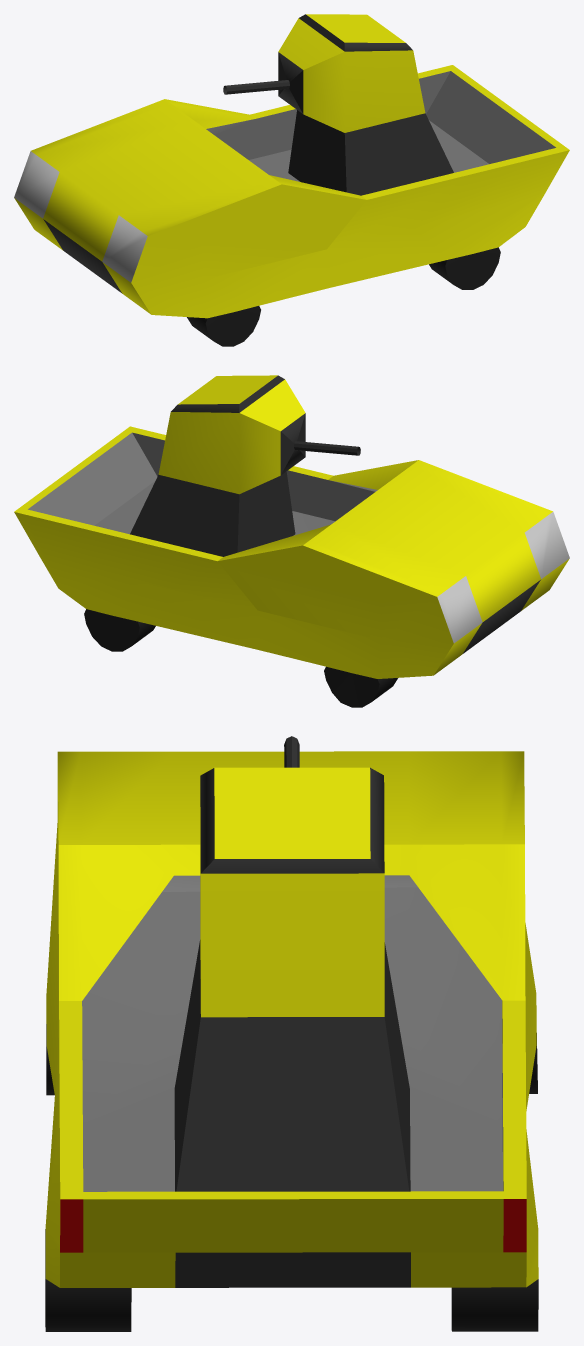
The model's file is WarLightYellow.fbx.
3 views of the same model, one above another, from view 1: azimuth 30°, elevation 25°; view 2: azimuth 150°, elevation 25°; view 3: azimuth 270°, elevation 25° (orthographic). The views are drawn at different scales.
Parts seen in each view (by area): view 1: pCylinder6; view 2: pCylinder6; view 3: pCylinder6.
Boxes of the visible parts, <box> form: pCylinder6: <box>14,14,569,346</box>; pCylinder6: <box>14,375,569,707</box>; pCylinder6: <box>45,736,538,1331</box>.
Bounding box in the file's own units: 4.31 × 2.23 × 2.09.
